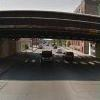Bridge: (1, 5, 94, 48)
